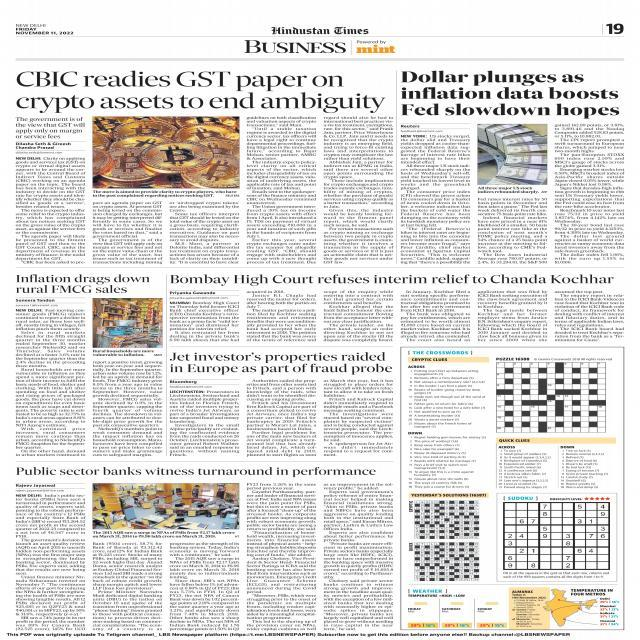Article: (10, 65, 396, 268), (11, 464, 398, 634), (398, 66, 629, 268), (166, 272, 628, 344), (8, 271, 166, 460), (166, 350, 397, 460)
Body: (13, 307, 88, 457), (244, 482, 318, 632), (244, 115, 318, 265), (322, 482, 394, 632), (322, 116, 393, 264), (554, 122, 626, 265), (14, 493, 87, 632), (401, 134, 472, 266), (13, 155, 88, 265), (91, 360, 165, 458), (168, 542, 242, 632), (92, 540, 164, 632), (322, 378, 395, 458), (244, 378, 316, 458), (406, 364, 488, 429), (476, 196, 549, 265), (168, 389, 241, 457), (91, 200, 164, 266), (168, 200, 242, 265), (406, 431, 488, 489), (399, 288, 472, 344), (476, 290, 550, 342), (552, 290, 626, 342), (245, 290, 318, 342), (323, 290, 395, 342), (168, 301, 240, 343), (500, 446, 554, 490), (559, 445, 612, 489)
Date: (15, 26, 76, 36)
Heading: (14, 70, 388, 114), (401, 70, 621, 120), (167, 274, 620, 288), (167, 352, 394, 376), (16, 466, 377, 478), (12, 272, 152, 294)
Highlights: (13, 115, 88, 140)
Image: (93, 116, 239, 188), (496, 362, 606, 433), (503, 502, 609, 570), (93, 484, 240, 530), (509, 588, 624, 628), (477, 124, 548, 186), (94, 297, 162, 348), (406, 598, 508, 628), (414, 542, 480, 582), (416, 500, 481, 539)
Name: (244, 39, 348, 54), (269, 26, 372, 34)
